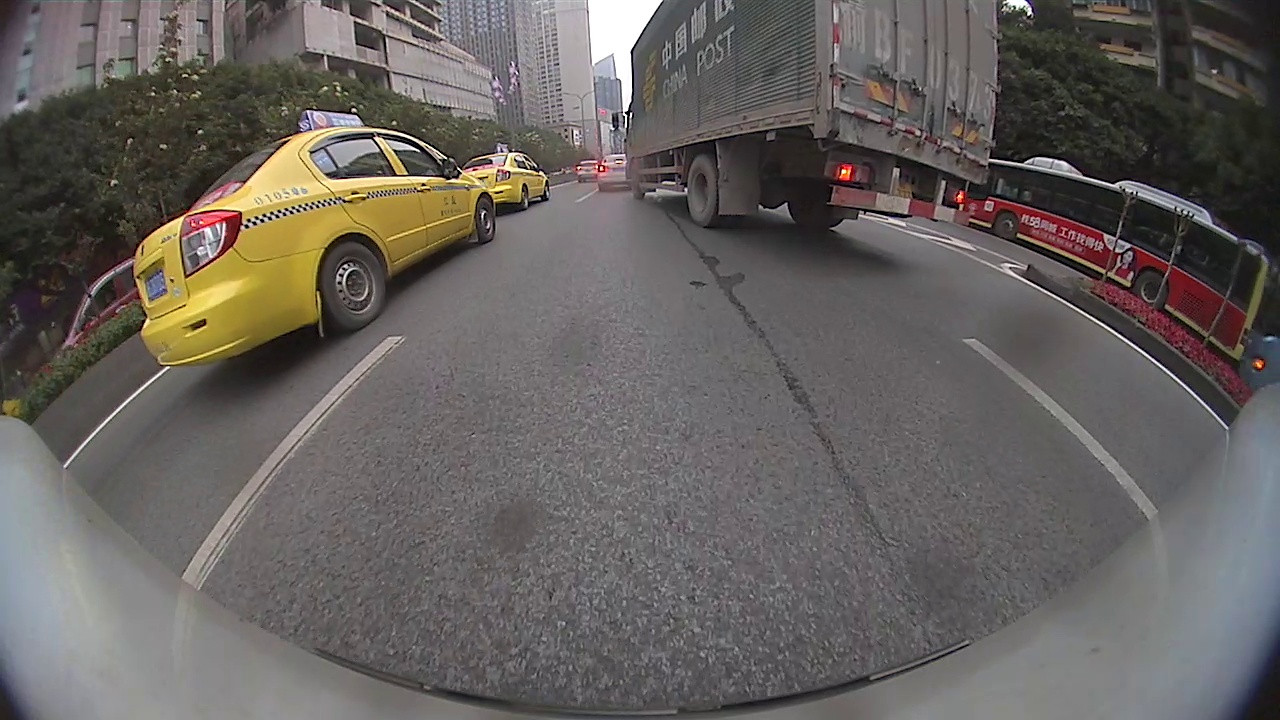bus: (984, 158, 1272, 359)
car: (132, 108, 498, 369), (464, 145, 552, 213), (1237, 335, 1279, 391), (594, 151, 633, 190)
front: (473, 199, 496, 243), (993, 209, 1020, 241)
rear: (316, 239, 389, 335), (685, 153, 727, 230), (1131, 269, 1170, 312), (518, 186, 531, 212)
truck: (609, 1, 1003, 232)
